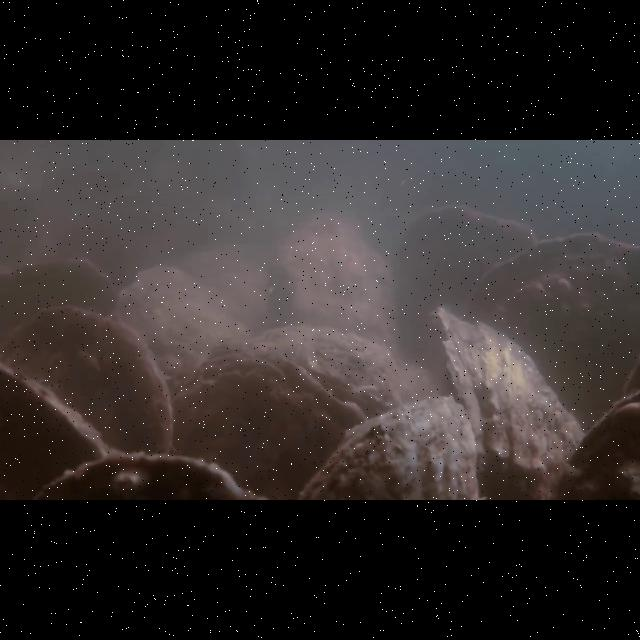Oyster-Closed: (458, 228, 637, 415), (428, 301, 587, 480), (2, 305, 175, 450), (178, 361, 368, 490), (390, 205, 537, 360), (293, 396, 482, 497), (275, 209, 401, 350), (118, 264, 252, 382), (228, 324, 405, 411), (1, 360, 108, 490), (27, 447, 283, 499), (2, 255, 119, 326), (177, 249, 272, 328), (568, 391, 637, 476)
